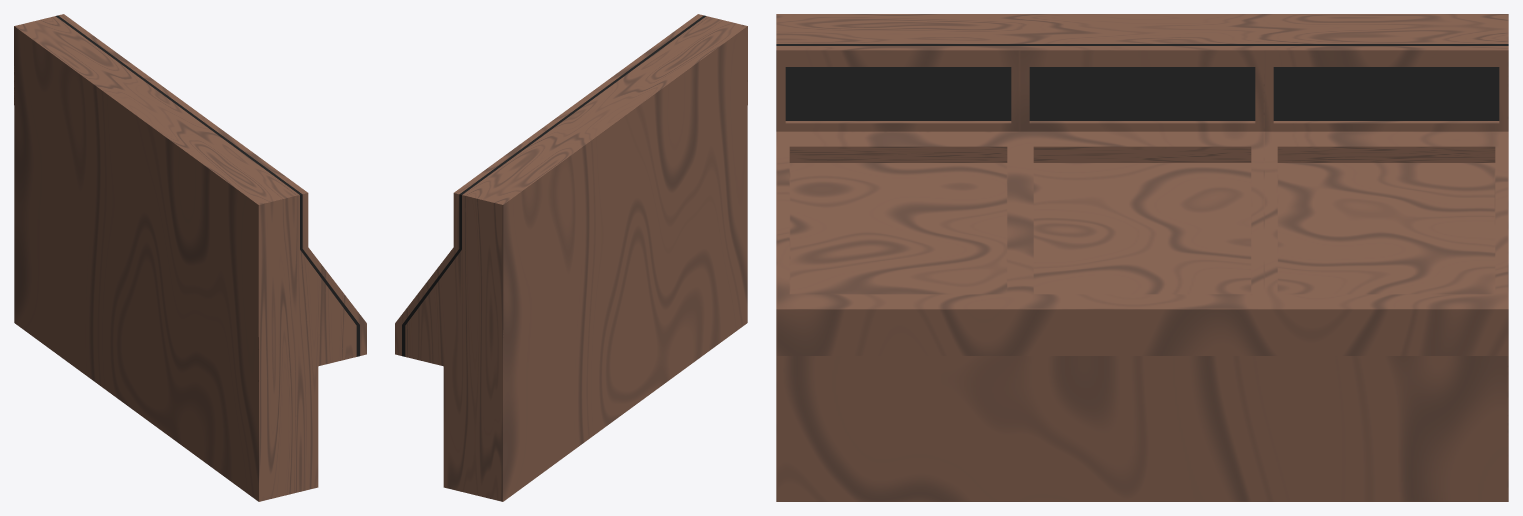
File: top vegitable shelf (5).fbx
3 views of the same model, side by side, from view 1: azimuth 30°, elevation 25°; view 2: azimuth 150°, elevation 25°; view 3: azimuth 270°, elevation 25° (orthographic). The views are drawn at different scales.
Parts seen in each view (by area): view 1: Cube.003; view 2: Cube.003; view 3: Cube.003.
Part boxes in pixels (box(x1,y1,x2,y2)): Cube.003: box(14, 14, 366, 501); Cube.003: box(395, 14, 747, 501); Cube.003: box(776, 14, 1508, 501).
Bounding box in the file's own units: 147 × 386 × 577.
